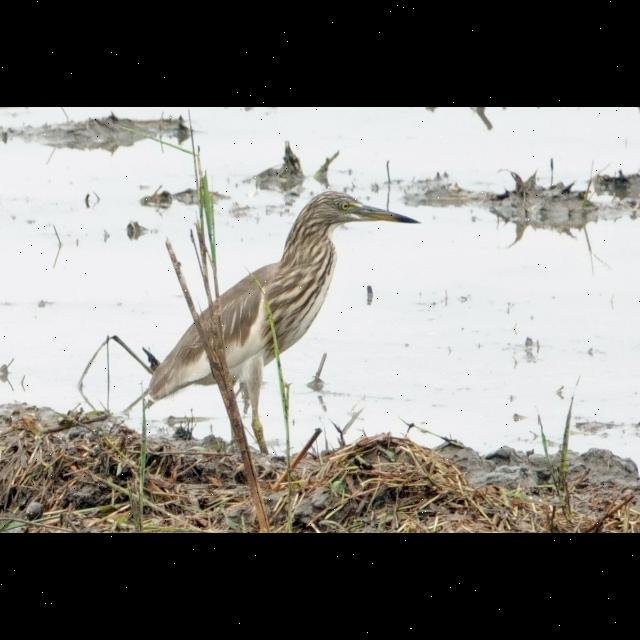heron: (134, 188, 426, 448)
